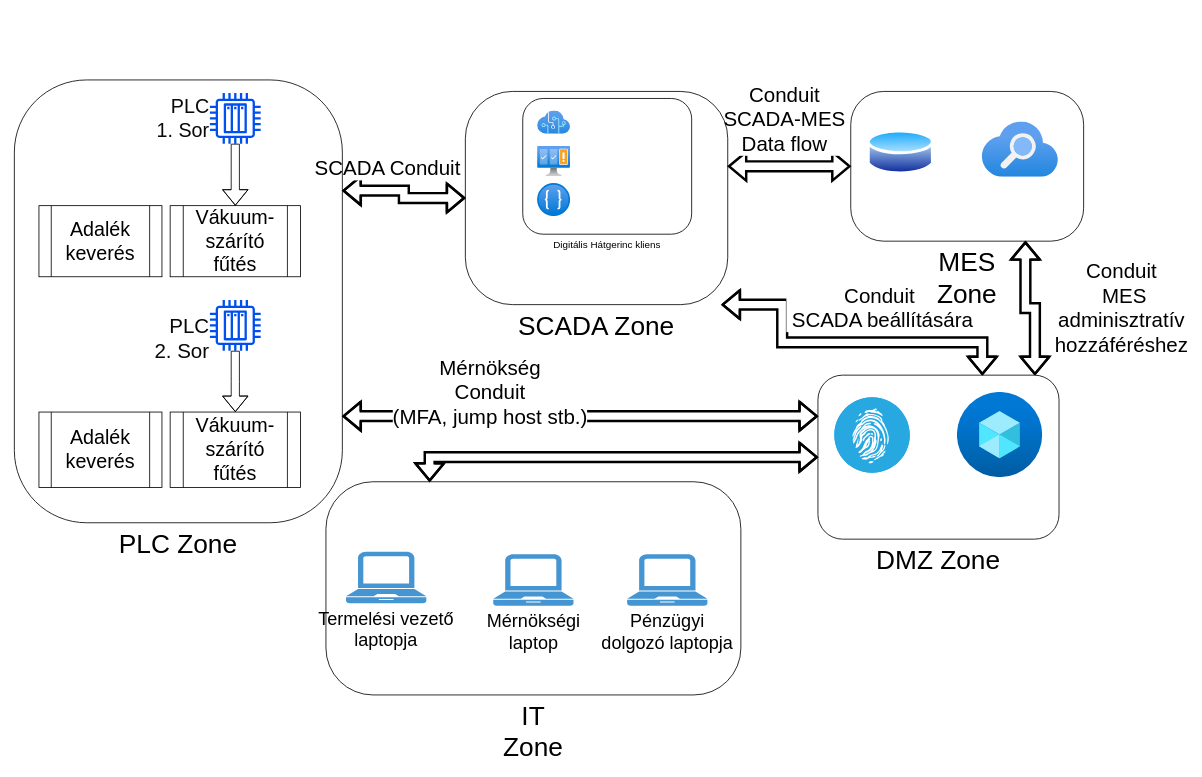
The diagram is 1202 pixels wide and 777 high, and some of its shapes have lost their labels. Each missing label, with the centre of its shape:
Backup vezérlő: the point at 553,122
DB: the point at 900,152
Diagnosztika szolgáltatás: the point at 553,161
EMS, MES: the point at 1020,149
Hitelesítési szolgáltatás: the point at 872,434
Jump hostok: the point at 999,434
Platform-specifikus interface: the point at 553,199
